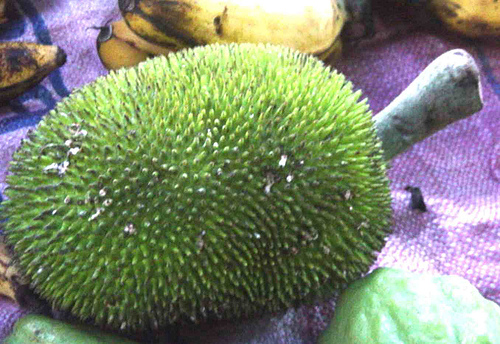jackfruit: (0, 39, 485, 343)
